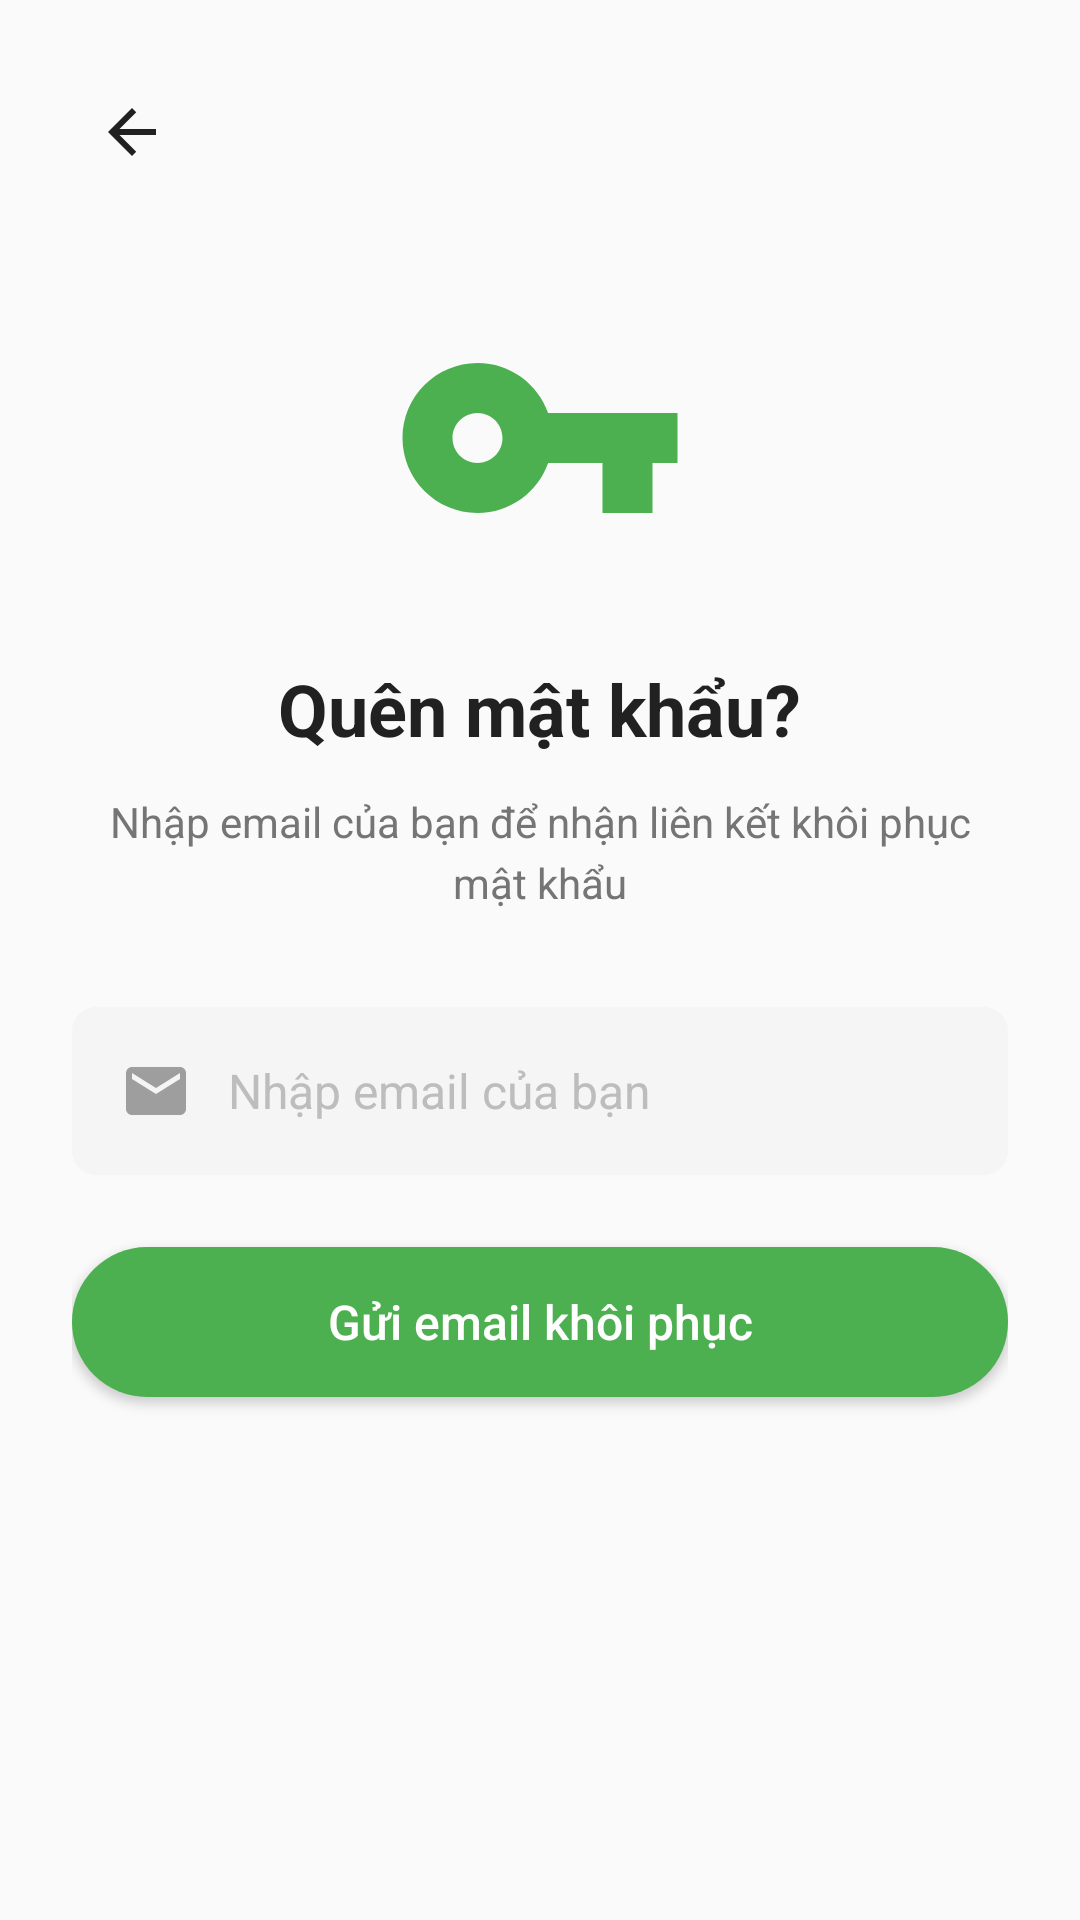

Icons on this 1080*1920 Android screen, each with its box as (x1, y1, x2, y2):
Back: (108, 108, 156, 156)
Reset password: (402, 363, 678, 513)
